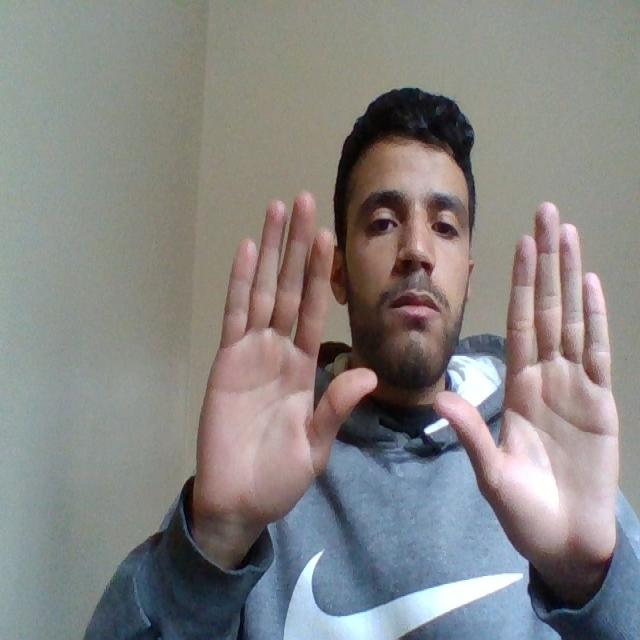Hello: (431, 191, 623, 568), (186, 183, 384, 544)
